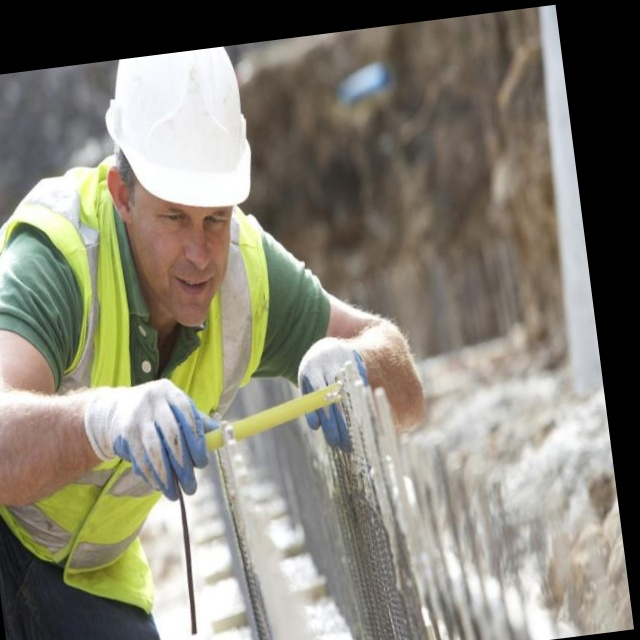Con_Casco: (107, 45, 270, 314)
Con_Chaleco: (0, 159, 166, 601)
